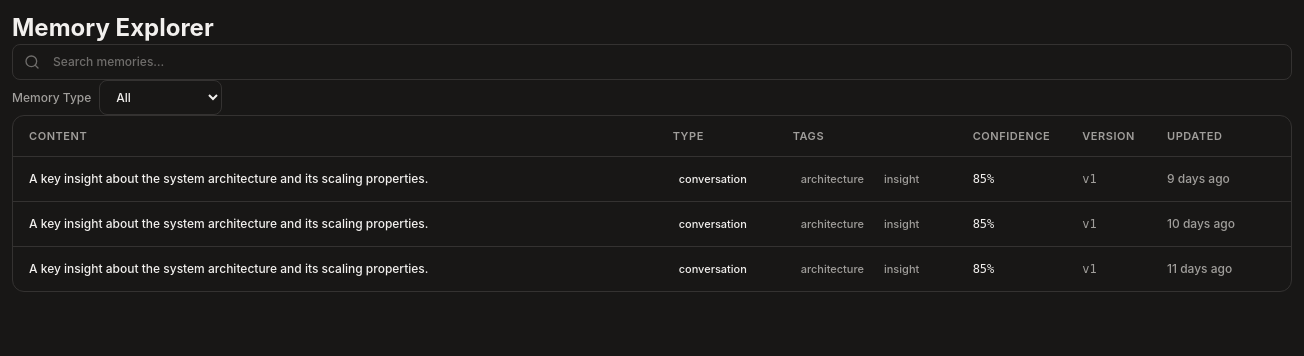
Test: MemoryExplorerPage › shows empty state when no memories match
Select "Custom" in the dropdown labelled "Memory Type". click: (161, 98)
box: [99,80,222,115]
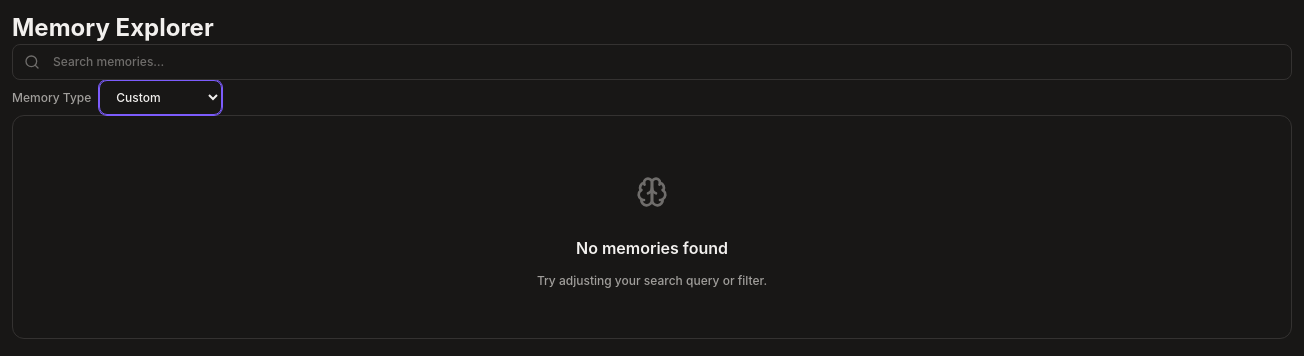
Expected: the heading "No memories found" is shown, [576,236,728,260]
